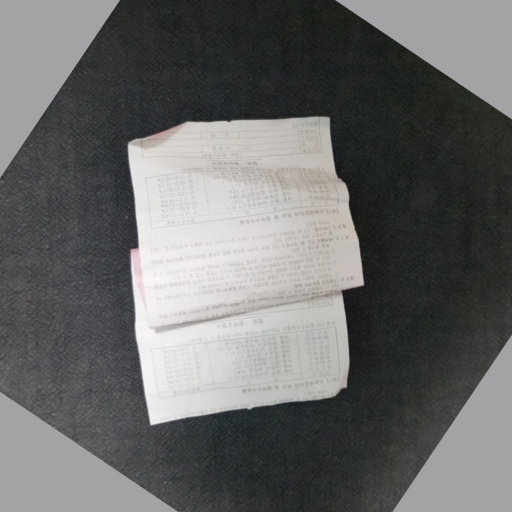Paper_3: (109, 105, 374, 437)
